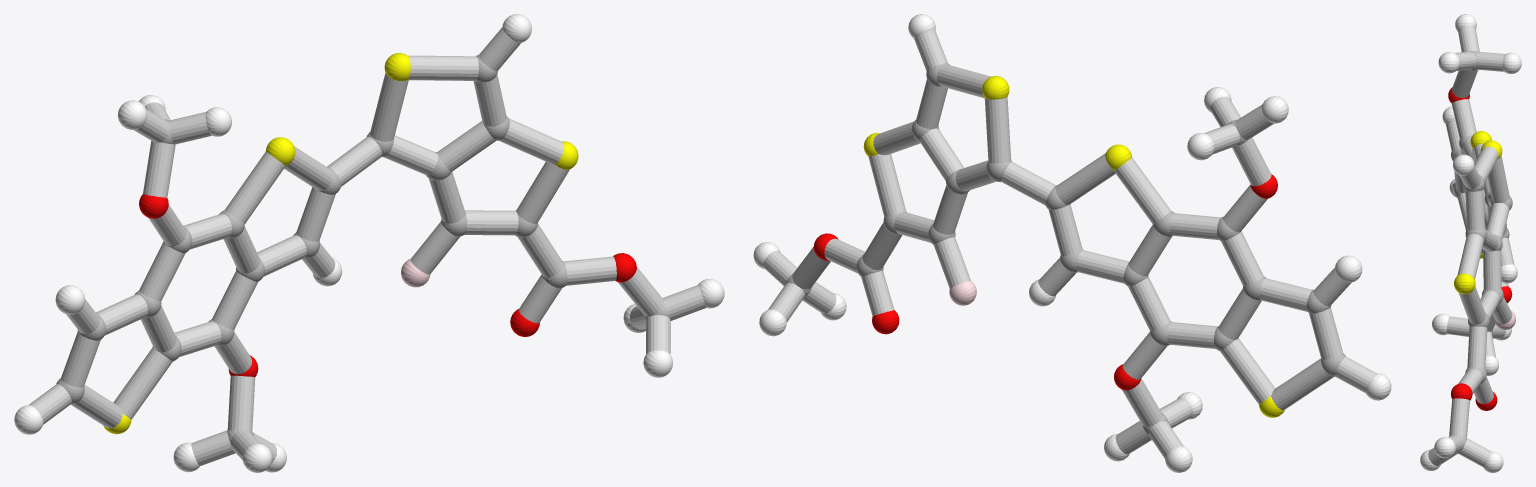
File: color.glb
The picture shows the model from 3 angles, left to right: view 1: azimuth 30°, elevation 25°; view 2: azimuth 150°, elevation 25°; view 3: azimuth 270°, elevation 25°; orthographic projection. The views are drawn at different scales.
Visible parts, largest first — view 1: grp15205, grp8689, grp1, grp7241, grp13395; view 2: grp15205, grp8689, grp1, grp13395, grp7241; view 3: grp15205, grp8689, grp1, grp7241, grp13395, grp14843.
Part boxes in pixels (x1,y1,x2,y2): grp15205: (28,27,706,465); grp8689: (14,14,724,472); grp1: (56,54,669,452); grp7241: (103,53,578,434); grp13395: (139,194,636,376); grp15205: (763,30,1376,458); grp8689: (753,14,1391,472); grp1: (786,63,1345,435); grp13395: (813,174,1277,390); grp7241: (863,76,1284,417); grp15205: (1428,26,1514,467); grp8689: (1420,14,1521,472); grp1: (1449,51,1512,453); grp7241: (1454,131,1502,294); grp13395: (1448,87,1512,410); grp14843: (1494,310,1515,329).
Size of the model in its own units: 16.18 by 9.3 by 2.81.
